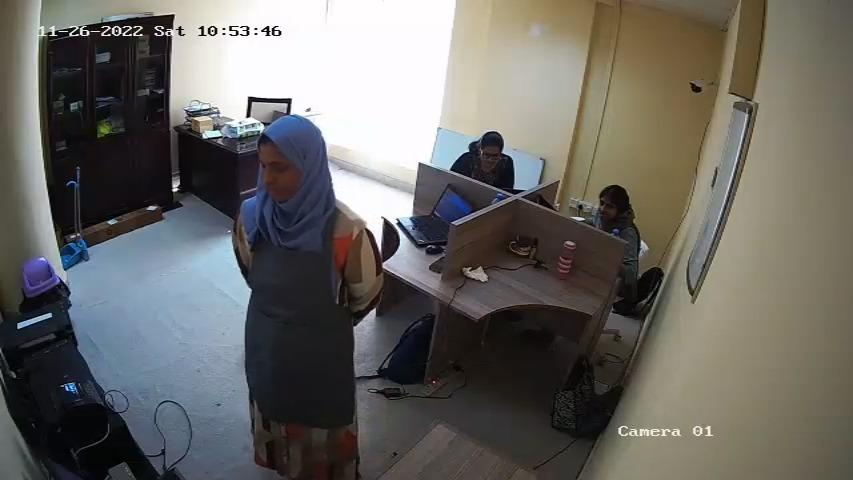apron: (242, 211, 360, 424)
